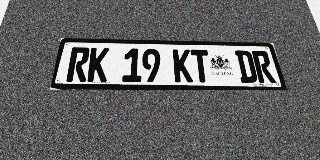1: (122, 48, 142, 82)
9: (142, 49, 161, 82)
D: (235, 50, 258, 83)
K: (87, 48, 109, 82), (173, 49, 193, 82)
R: (66, 47, 90, 82), (251, 51, 276, 83)
T: (190, 49, 212, 82)
